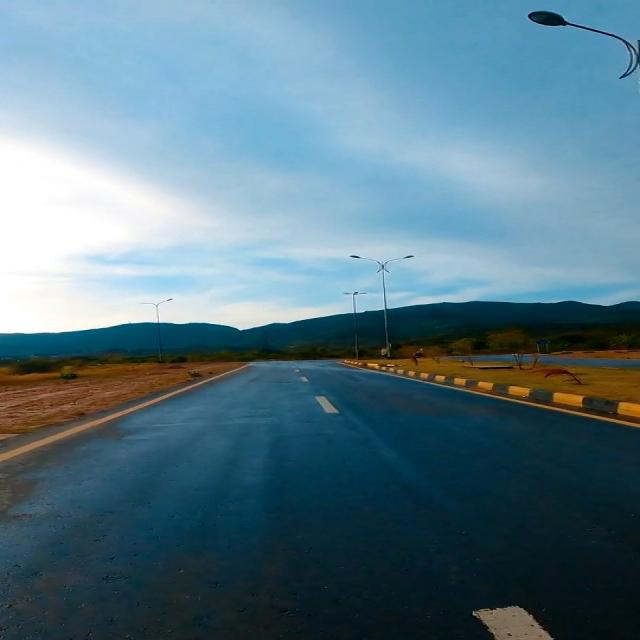lane: (0, 363, 250, 461)
road: (2, 361, 636, 639), (2, 361, 636, 639)
